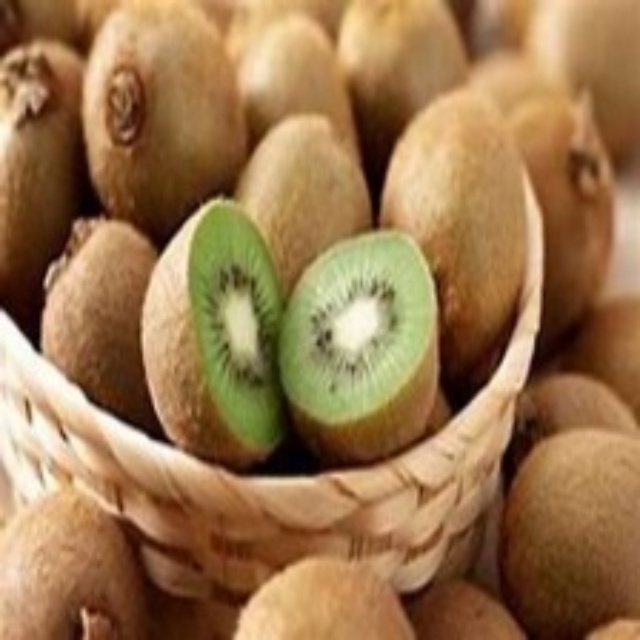kiwi: (148, 222, 440, 476), (384, 93, 544, 362), (73, 11, 257, 233), (31, 217, 183, 448), (509, 389, 638, 638), (228, 118, 379, 276), (3, 484, 141, 632), (228, 564, 415, 638)
